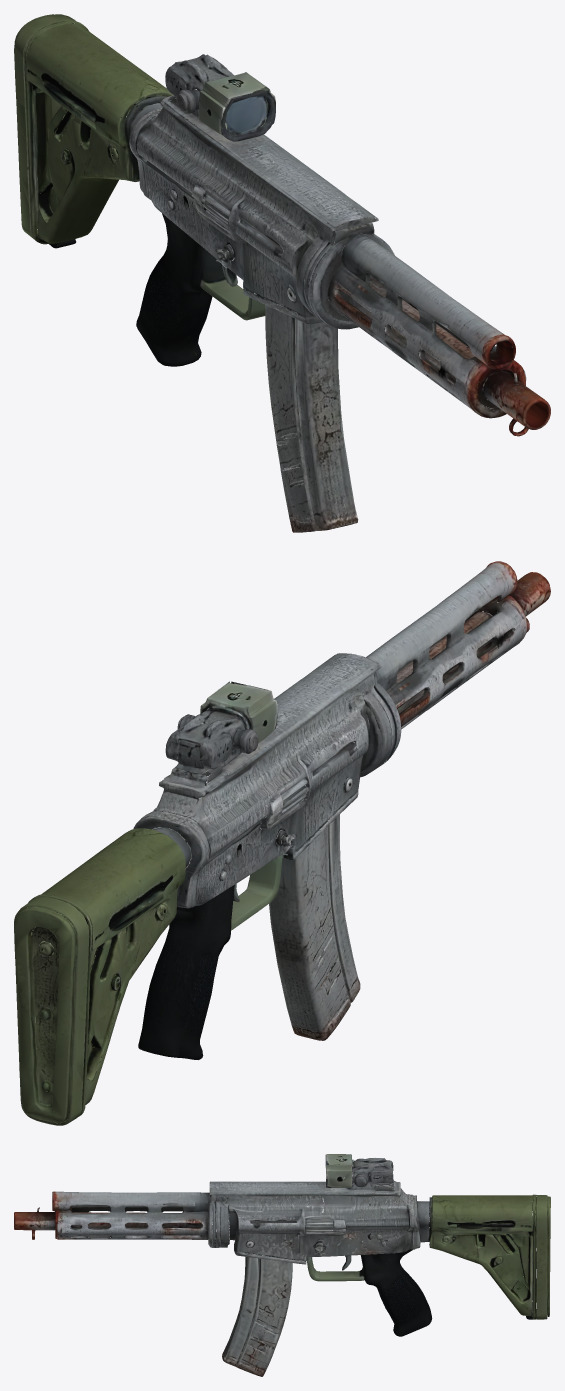
The model's file is minigun.glb.
3 views of the same model, one above another, from view 1: azimuth 30°, elevation 25°; view 2: azimuth 150°, elevation 25°; view 3: azimuth 270°, elevation 25° (orthographic). The views are drawn at different scales.
Parts seen in each view (by area): view 1: model; view 2: model; view 3: model.
Boxes of the visible parts, x1,y1,x2,y2 form: model: (14,14,550,532); model: (14,561,550,1125); model: (14,1154,550,1376).
Size of the model in its own units: 6453 by 27476 by 62481.
Materials: 1 (1 with a texture image).
